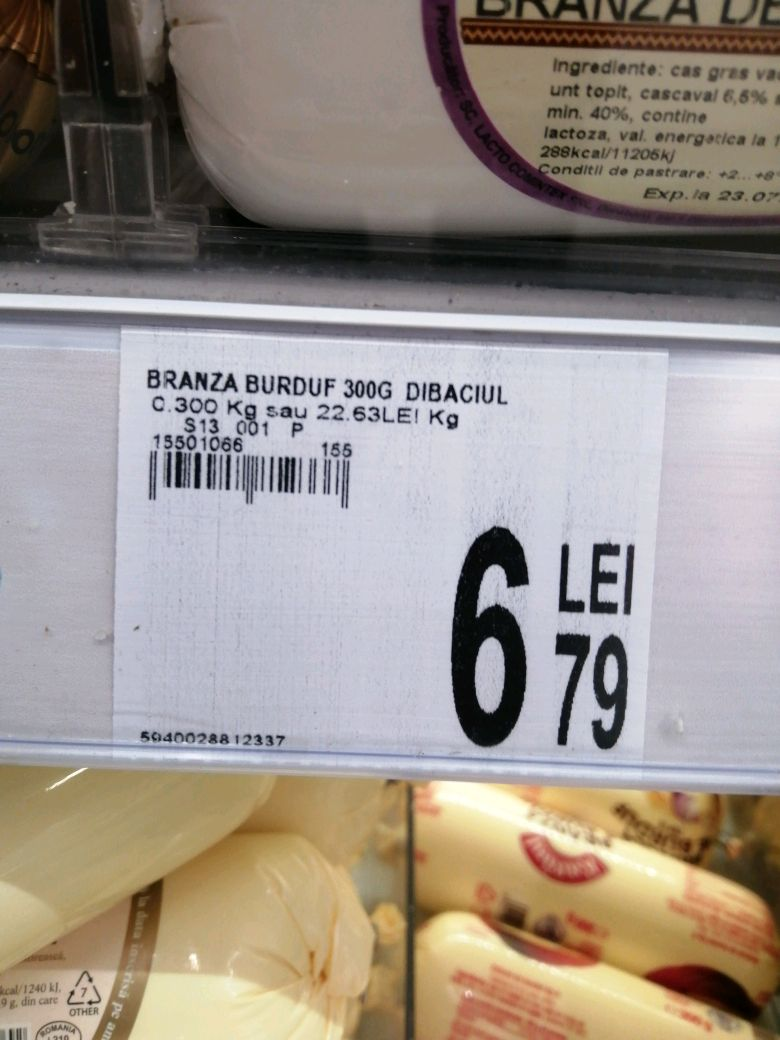price_bani: (538, 625, 639, 754)
price_lei: (444, 518, 537, 754)
price_tag: (100, 314, 680, 788)
product_id: (132, 723, 293, 754)
product_name: (125, 359, 522, 409)
